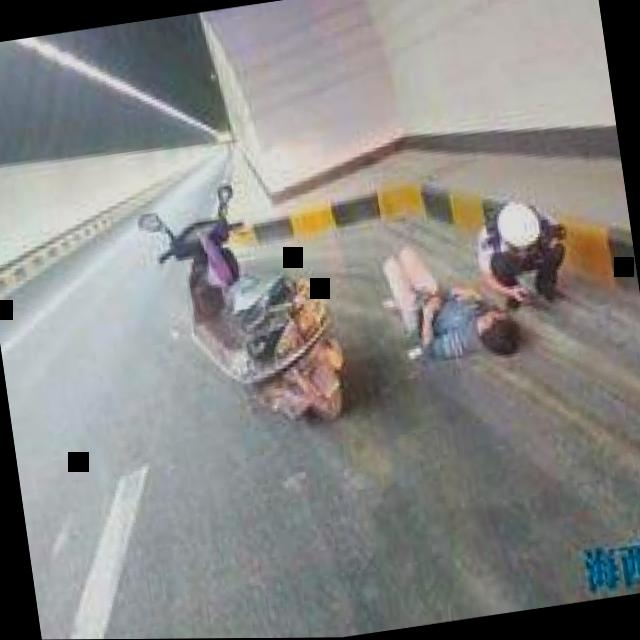Fall-Detected: (361, 212, 533, 377)
